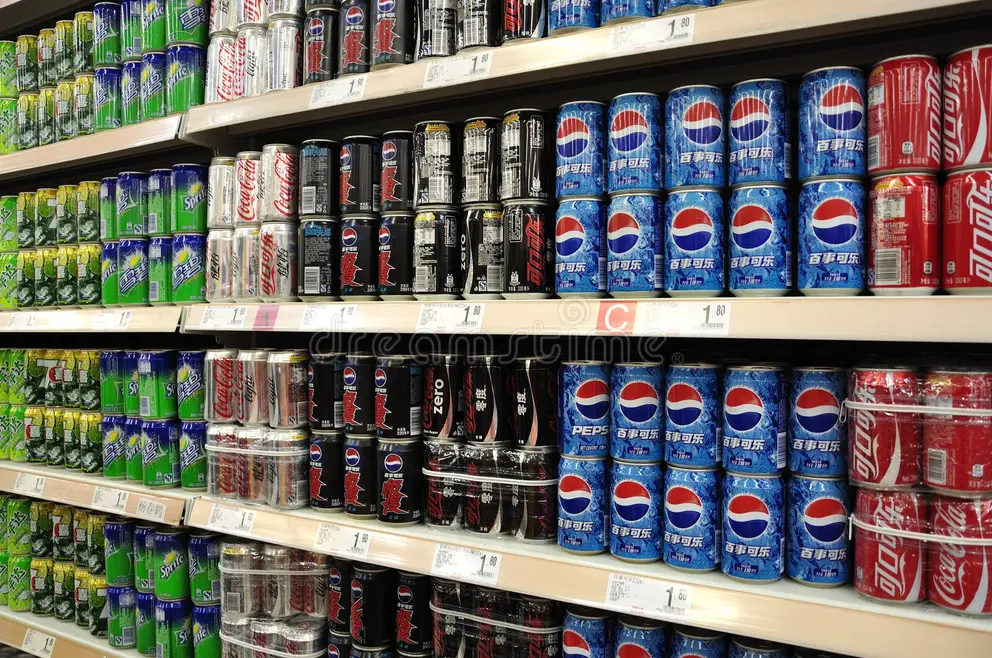soft_drink: (861, 55, 945, 174), (853, 368, 924, 491), (660, 86, 731, 190), (666, 362, 722, 470), (371, 350, 426, 441), (406, 116, 456, 208), (136, 346, 177, 425), (169, 162, 213, 235), (261, 141, 297, 224)
